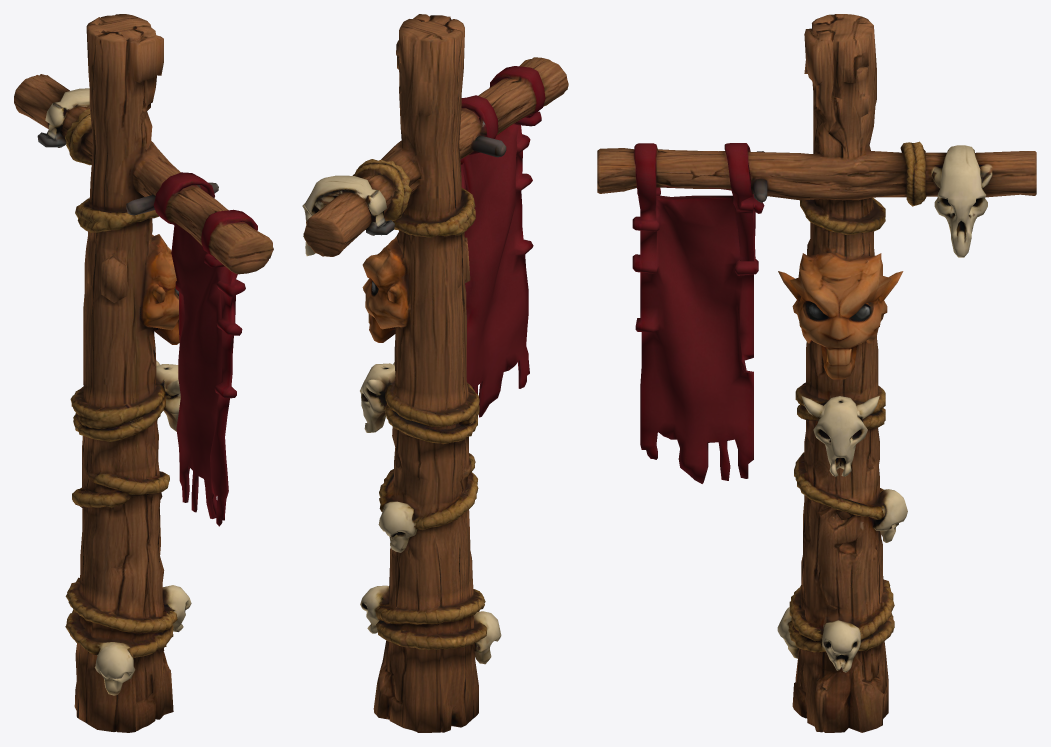
Rendered from 62131f9e-8863-4100-a95a-4a0cbba13f52-pbr_model.glb.
The picture shows the model from 3 angles, left to right: view 1: azimuth 30°, elevation 25°; view 2: azimuth 150°, elevation 25°; view 3: azimuth 270°, elevation 25°; orthographic projection.
Parts seen in each view (by area): view 1: tripo_node_62131f9e-8863-4100-a95a-4a0cbba13f52; view 2: tripo_node_62131f9e-8863-4100-a95a-4a0cbba13f52; view 3: tripo_node_62131f9e-8863-4100-a95a-4a0cbba13f52.
Boxes of the visible parts, <box> form: tripo_node_62131f9e-8863-4100-a95a-4a0cbba13f52: <box>14,14,273,732</box>; tripo_node_62131f9e-8863-4100-a95a-4a0cbba13f52: <box>302,14,568,732</box>; tripo_node_62131f9e-8863-4100-a95a-4a0cbba13f52: <box>597,14,1036,732</box>.
Size of the model in its own units: 0.1742 by 0.9782 by 0.5686.
Materials: 1 (1 with a texture image).
